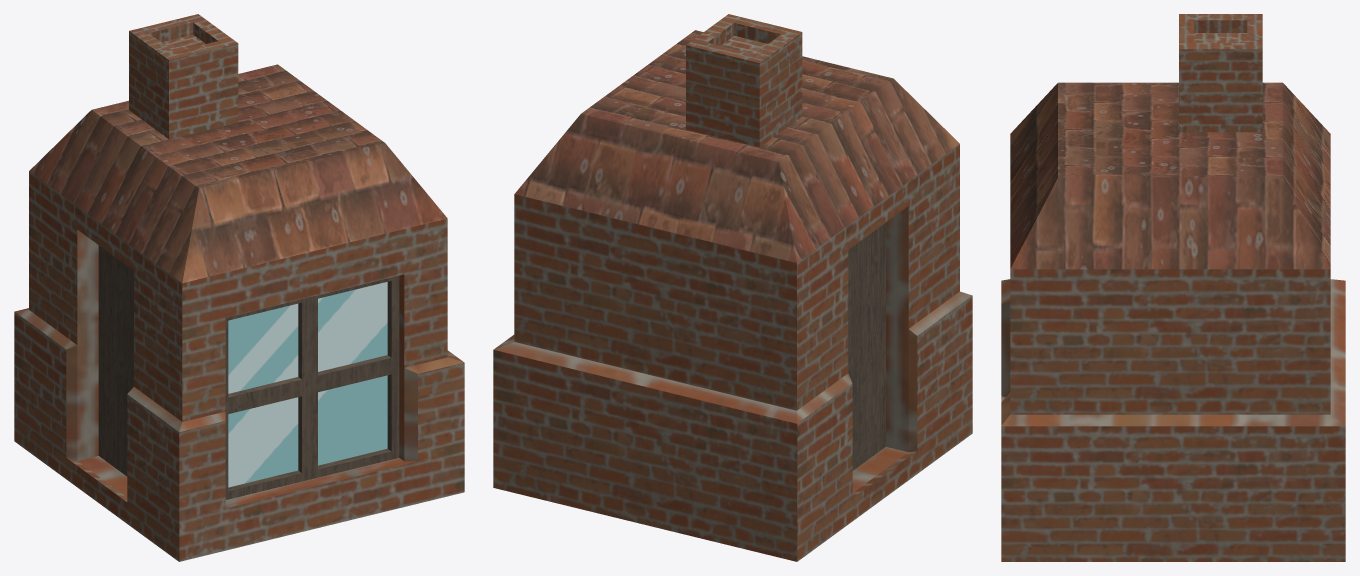
The model's file is house_fbx.fbx.
3 views of the same model, side by side, from view 1: azimuth 30°, elevation 25°; view 2: azimuth 150°, elevation 25°; view 3: azimuth 270°, elevation 25° (orthographic). The views are drawn at different scales.
Visible parts, largest first — view 1: Cube; view 2: Cube; view 3: Cube.
Part boxes in pixels (<box>): Cube: <box>14,14,464,561</box>; Cube: <box>493,14,972,561</box>; Cube: <box>1001,14,1345,561</box>.
Bounding box in the file's own units: 43.02 × 61.25 × 43.02.
1 material, 1 textured.
